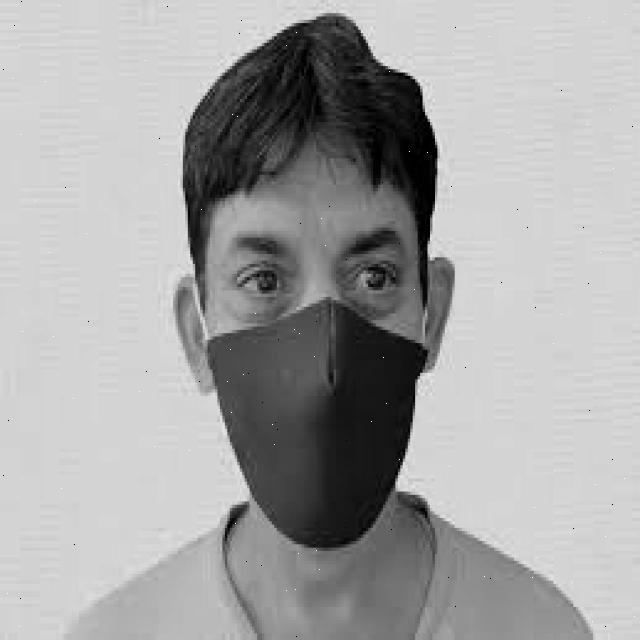fake: (205, 297, 431, 549)
real: (207, 160, 430, 556)
